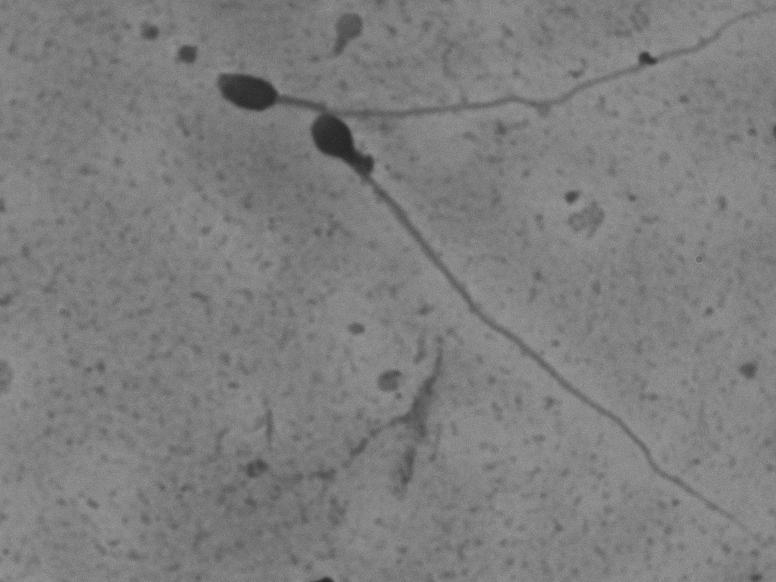Normal: (297, 110, 771, 546), (201, 2, 763, 134)
